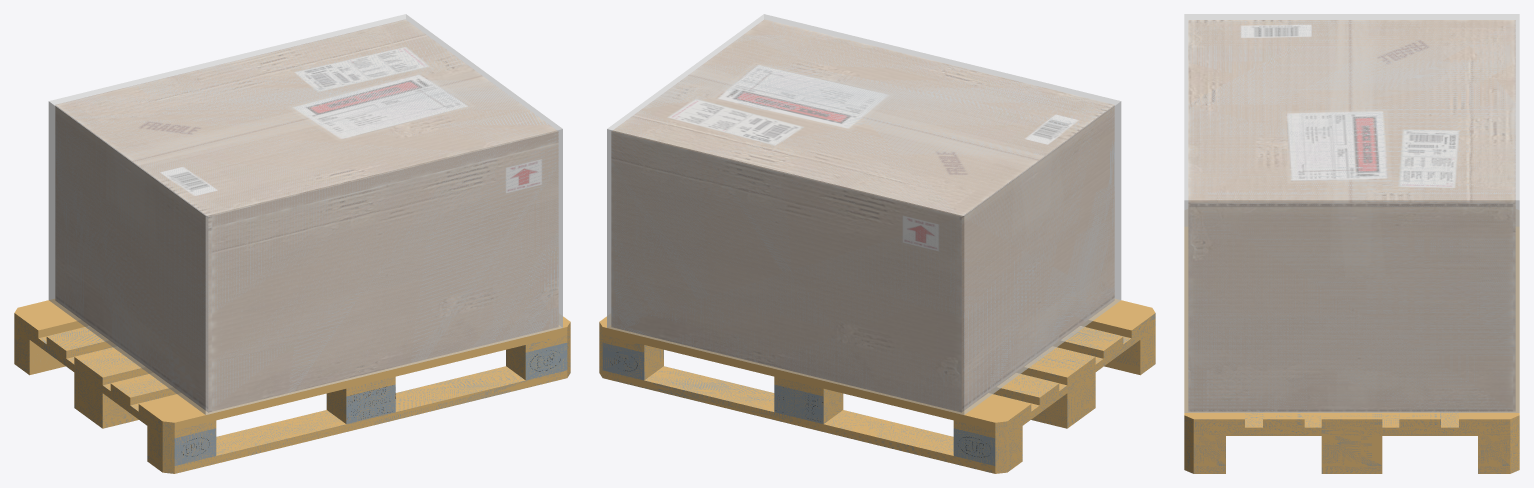
File: pallet.fbx
3 renders of one model, left to right at view 1: azimuth 30°, elevation 25°; view 2: azimuth 150°, elevation 25°; view 3: azimuth 270°, elevation 25°, orthographic. The views are drawn at different scales.
Parts seen in each view (by area): view 1: film_plastique1, Component_1_1, Europalette_rund1; view 2: film_plastique1, Component_1_1, Europalette_rund1; view 3: film_plastique1, Component_1_1, Europalette_rund1.
Part boxes in pixels (box(x1,y1,x2,y2)): film_plastique1: box(48, 14, 562, 414); Component_1_1: box(55, 19, 558, 412); Europalette_rund1: box(14, 299, 570, 473); film_plastique1: box(607, 14, 1121, 414); Component_1_1: box(611, 19, 1114, 412); Europalette_rund1: box(599, 299, 1155, 473); film_plastique1: box(1184, 14, 1519, 412); Component_1_1: box(1188, 20, 1515, 411); Europalette_rund1: box(1184, 226, 1519, 473).
Size of the model in its own units: 120 by 70.33 by 80.
